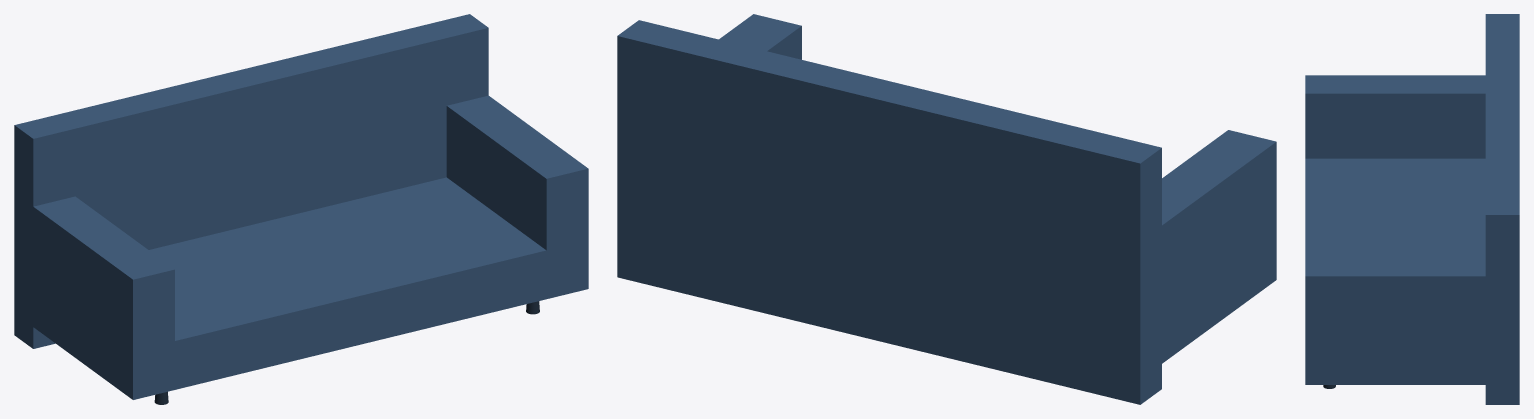
Rendered from sofa_fabric_blue_3.glb.
The picture shows the model from 3 angles, left to right: view 1: azimuth 30°, elevation 25°; view 2: azimuth 150°, elevation 25°; view 3: azimuth 270°, elevation 25°; orthographic projection. The views are drawn at different scales.
Visible parts, largest first — view 1: furniture; view 2: furniture; view 3: furniture.
Boxes of the visible parts, x1=… form: furniture: x1=14, y1=14, x2=588, y2=404; furniture: x1=617, y1=14, x2=1276, y2=404; furniture: x1=1305, y1=14, x2=1519, y2=404.
Bounding box in the file's own units: 1.95 × 0.86 × 0.88.
